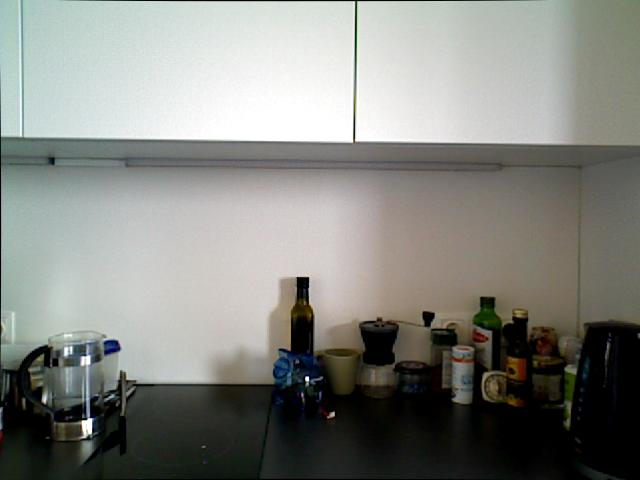bench: (470, 295, 502, 402), (504, 308, 532, 408), (290, 275, 314, 387), (430, 328, 457, 393)
giraffe: (479, 368, 516, 406)
handbag: (13, 326, 114, 443), (321, 348, 359, 395)
